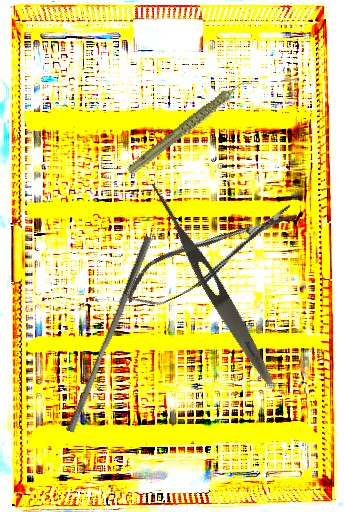Dressing Forceps: (141, 177, 280, 389)
Handpiece: (113, 77, 267, 177)
Micro Scissor: (116, 194, 307, 318)
Pusher: (65, 232, 153, 436)
